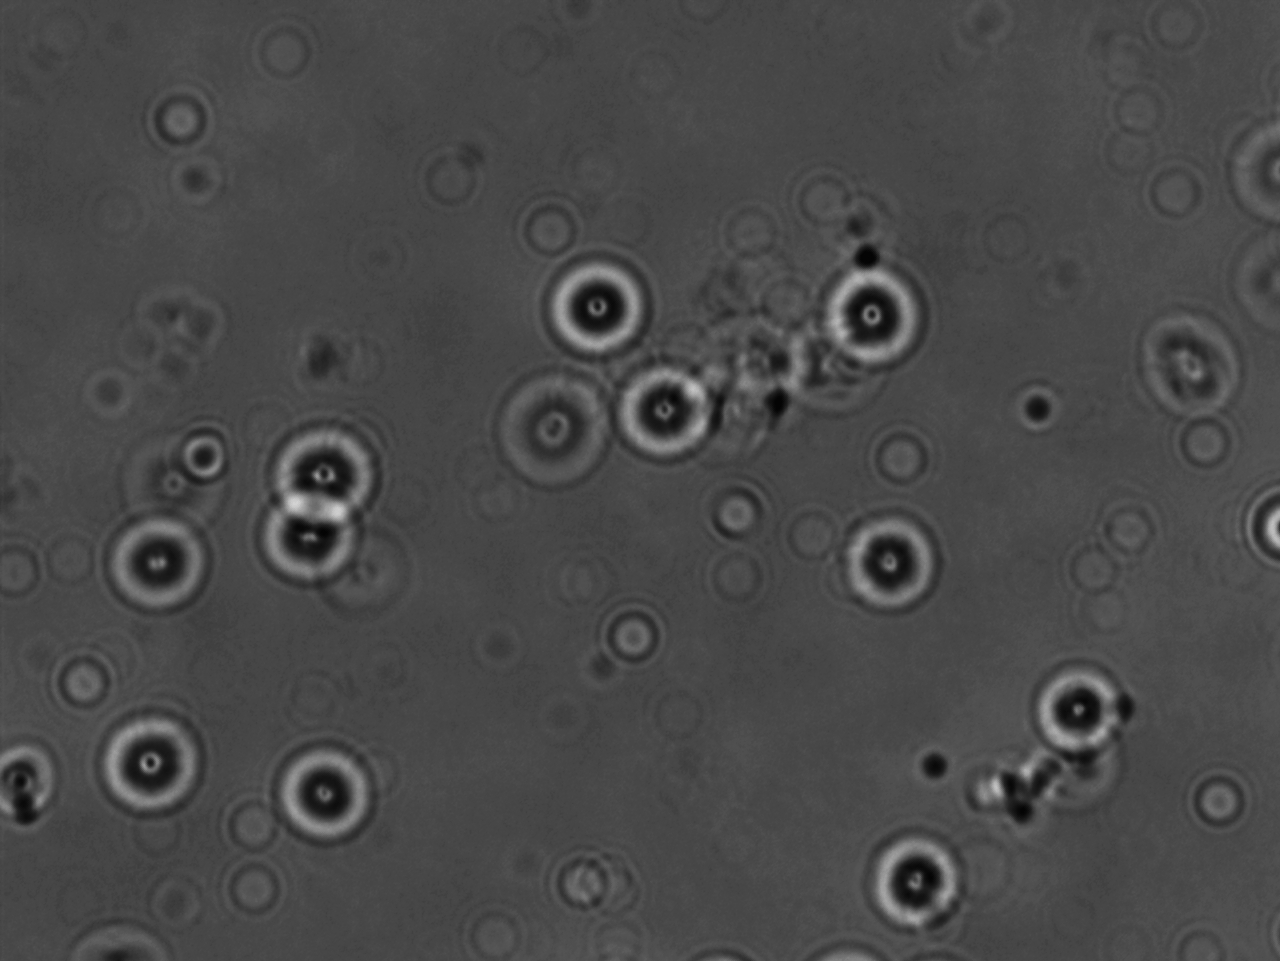depth:-8: (827, 498, 962, 628), (808, 250, 936, 379), (93, 697, 225, 818), (256, 723, 385, 846), (530, 245, 659, 364), (257, 415, 396, 525), (88, 509, 219, 623), (1014, 648, 1131, 772), (611, 349, 725, 468), (858, 828, 978, 940), (251, 483, 370, 592)
